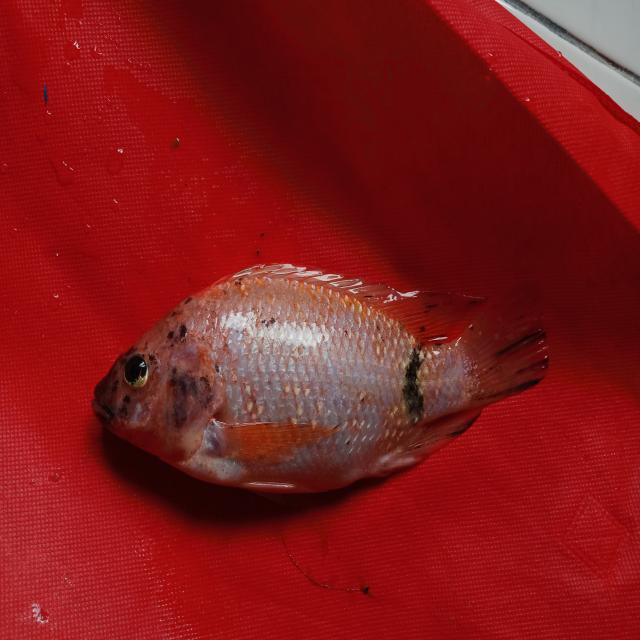ikan: (81, 263, 557, 512)
